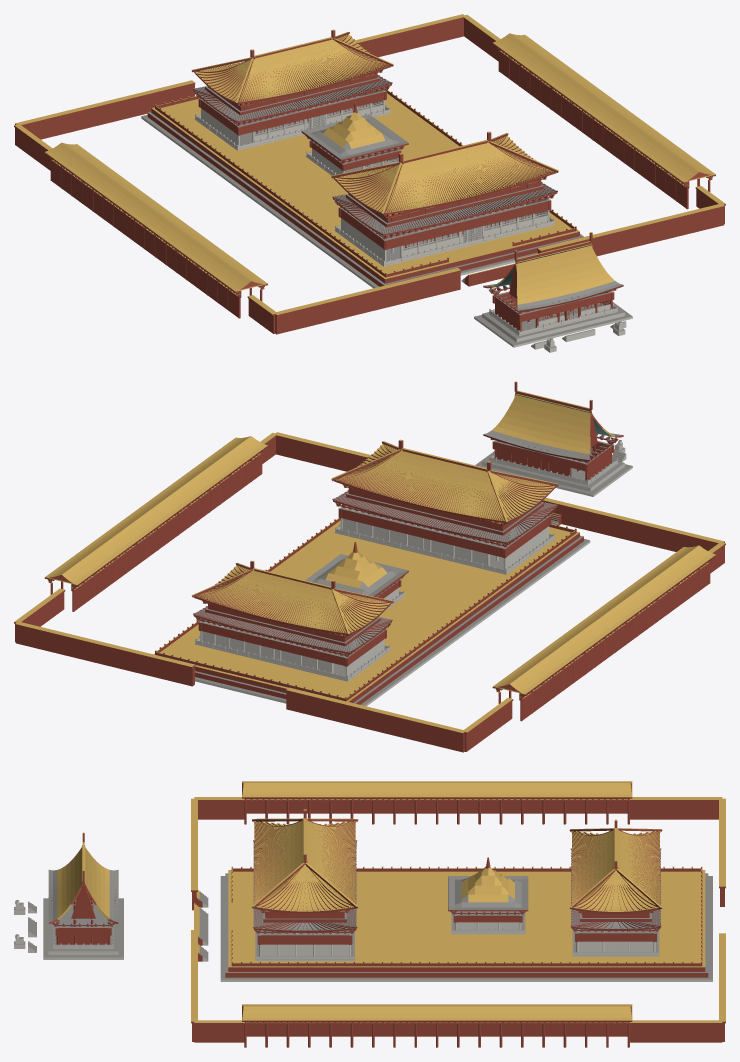
File: r04_neiting.glb
3 views of the same model, one above another, from view 1: azimuth 30°, elevation 25°; view 2: azimuth 150°, elevation 25°; view 3: azimuth 270°, elevation 25° (orthographic). The views are drawn at different scales.
Visible parts, largest first — view 1: r04_neiting; view 2: r04_neiting; view 3: r04_neiting.
Part boxes in pixels (<box>): r04_neiting: <box>14,14,725,352</box>; r04_neiting: <box>14,381,725,752</box>; r04_neiting: <box>14,781,725,1047</box>.
Bounding box in the file's own units: 133 × 25.46 × 167.
